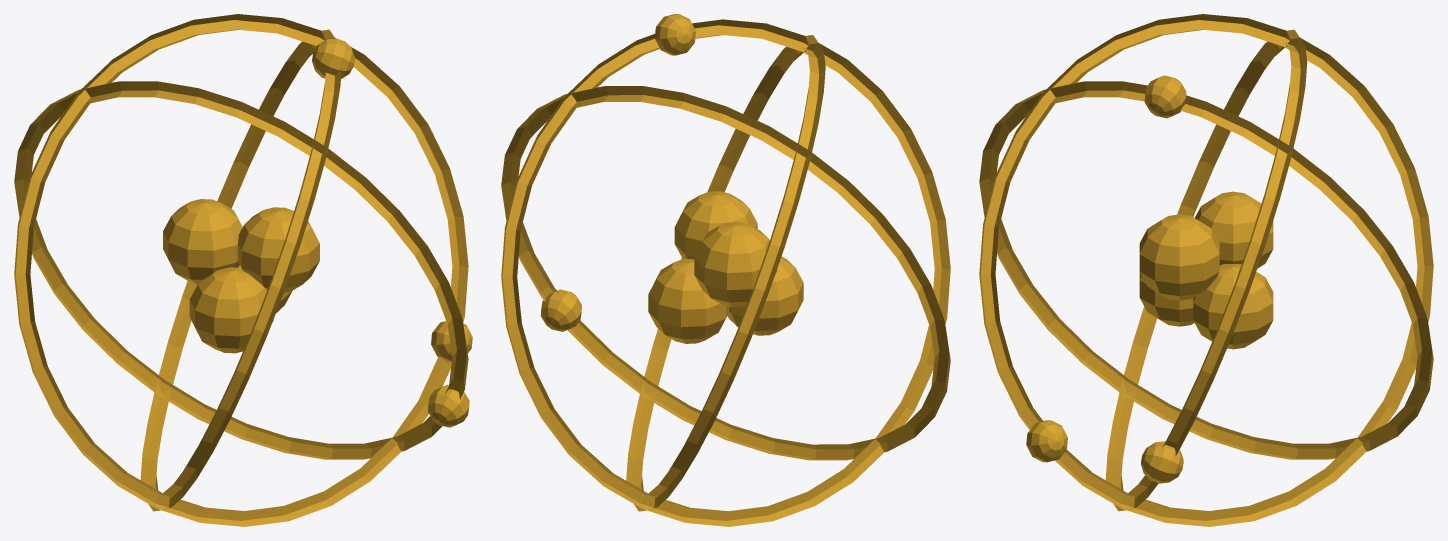
Rendered from physics.glb.
3 views of the same model, side by side, from view 1: azimuth 30°, elevation 25°; view 2: azimuth 150°, elevation 25°; view 3: azimuth 270°, elevation 25° (orthographic).
Parts seen in each view (by area): view 1: physics; view 2: physics; view 3: physics.
Boxes of the visible parts, left/top/right/bottom form: physics: left=14, top=14, right=472, bottom=526; physics: left=501, top=14, right=950, bottom=526; physics: left=979, top=14, right=1433, bottom=526.
Size of the model in its own units: 1 by 0.9524 by 0.8856.
